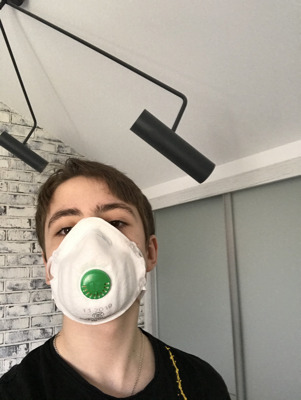with_mask: (46, 191, 147, 324)
